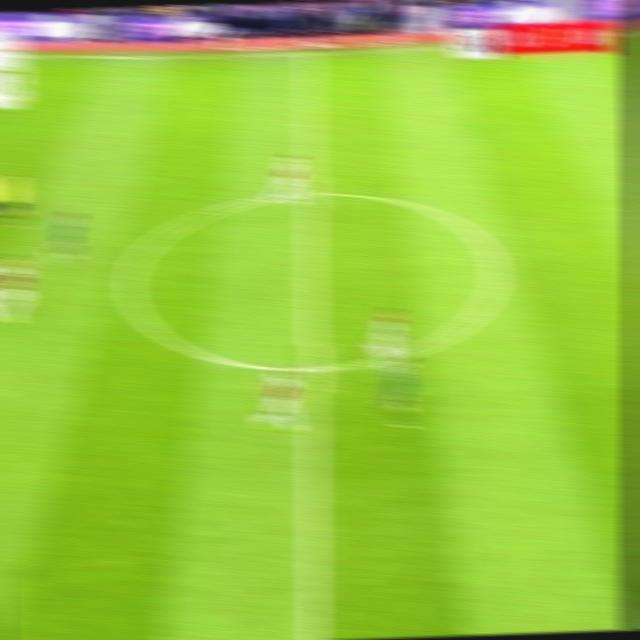halfcircle_bottom: (292, 344, 335, 392)
halfcircle_top: (292, 178, 330, 208)
midline_top_intersection: (291, 36, 328, 72)
